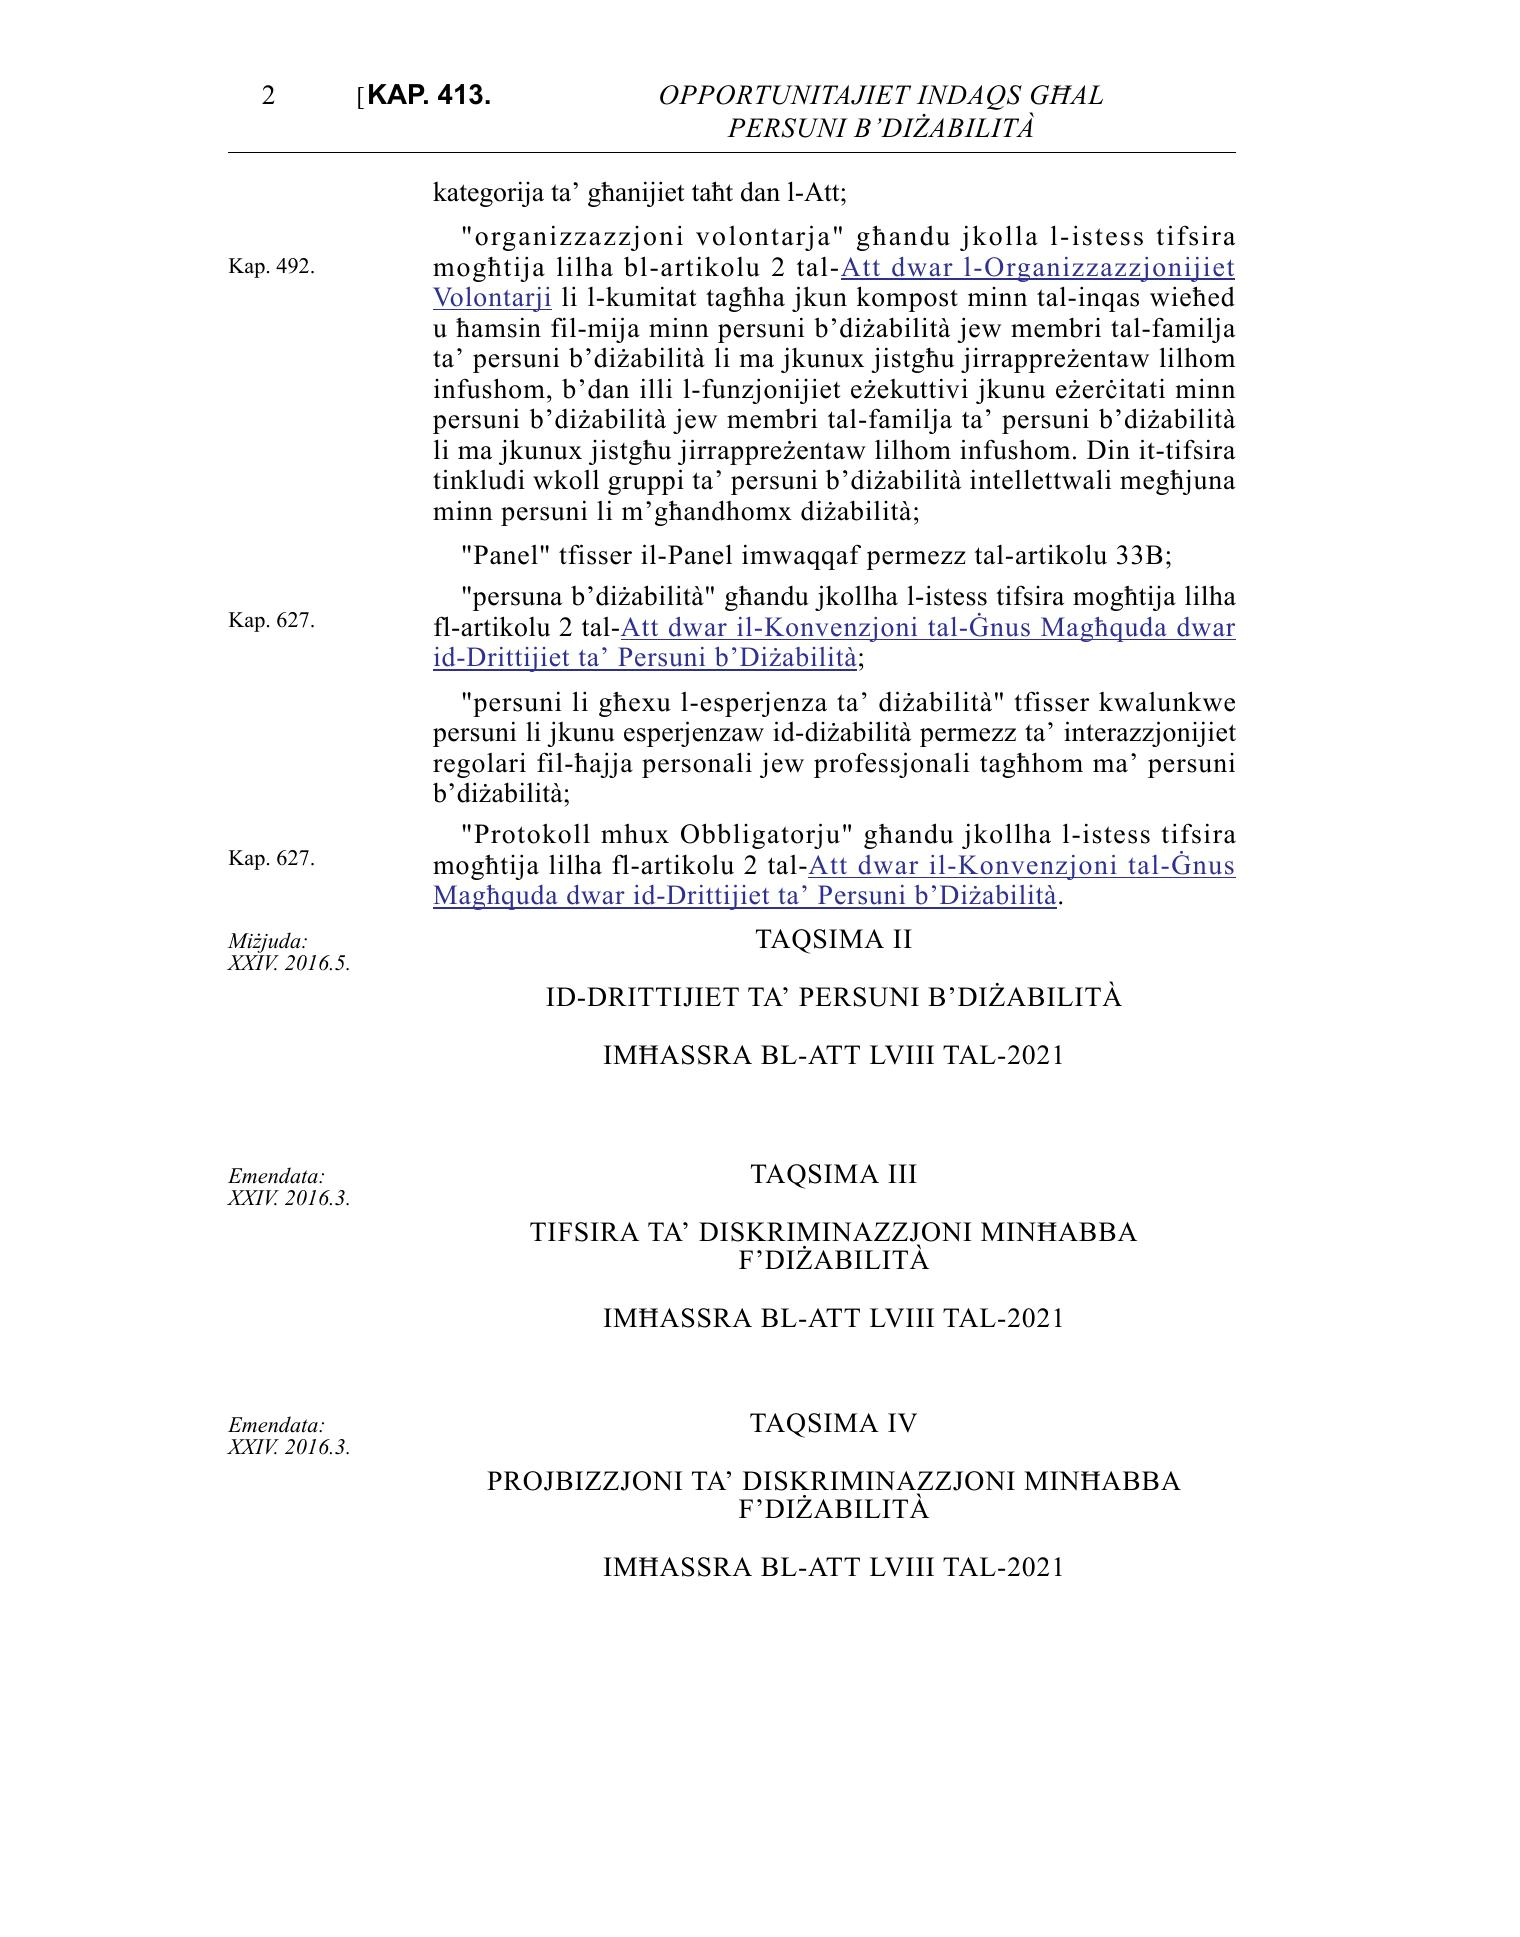text: (417, 167, 1253, 1593)
